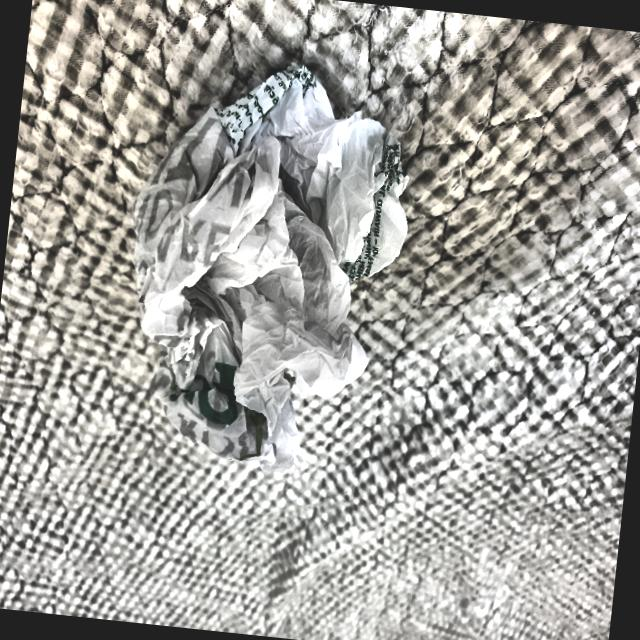plastic bag: (96, 30, 438, 503)
